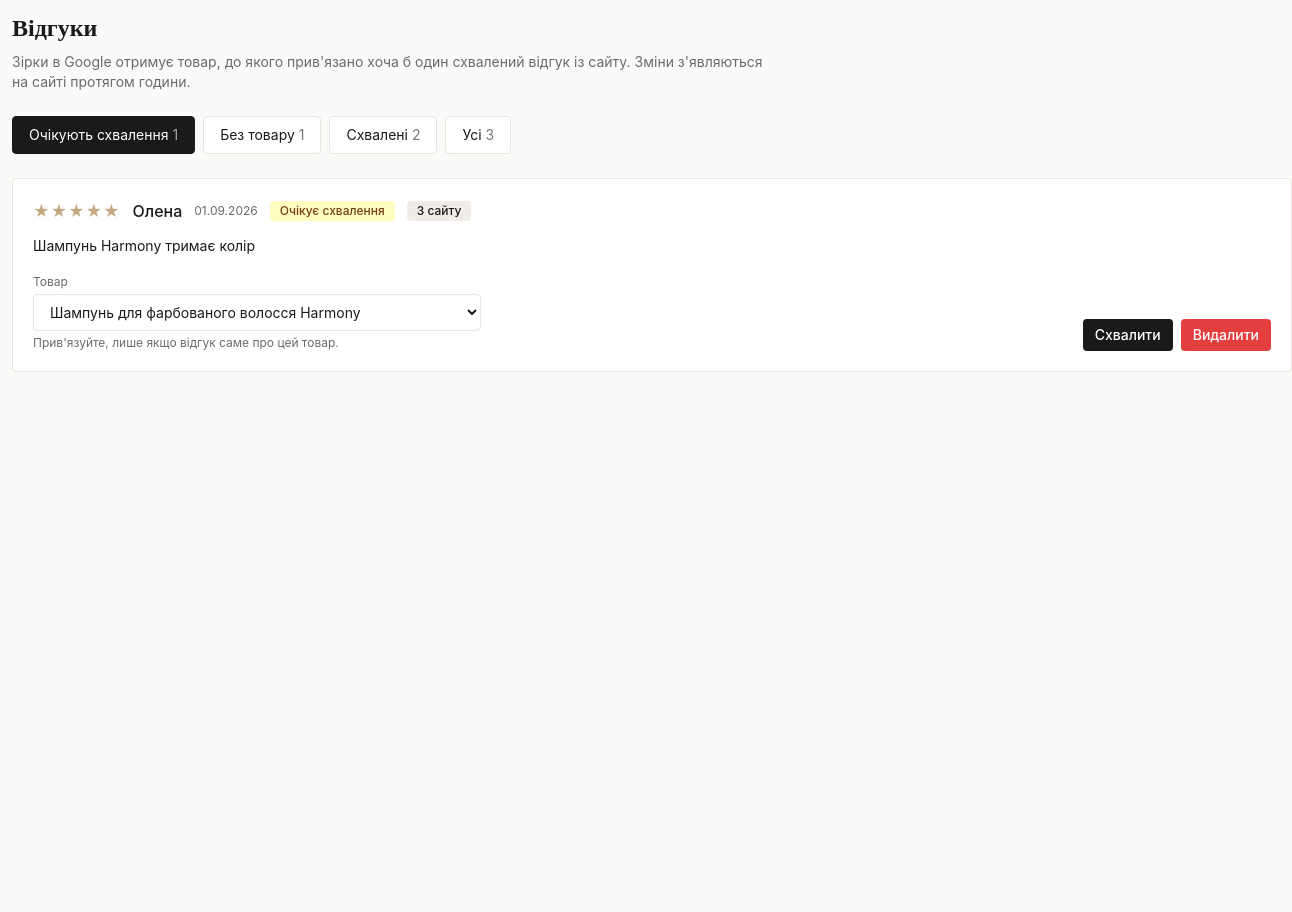
Test: адмінка: відгуки › відгук із Google Maps прив'язати до товару не можна
The image size is (1292, 912).
Click the tab "Усі 3": (478, 135) x1=445 y1=116 x2=511 y2=154
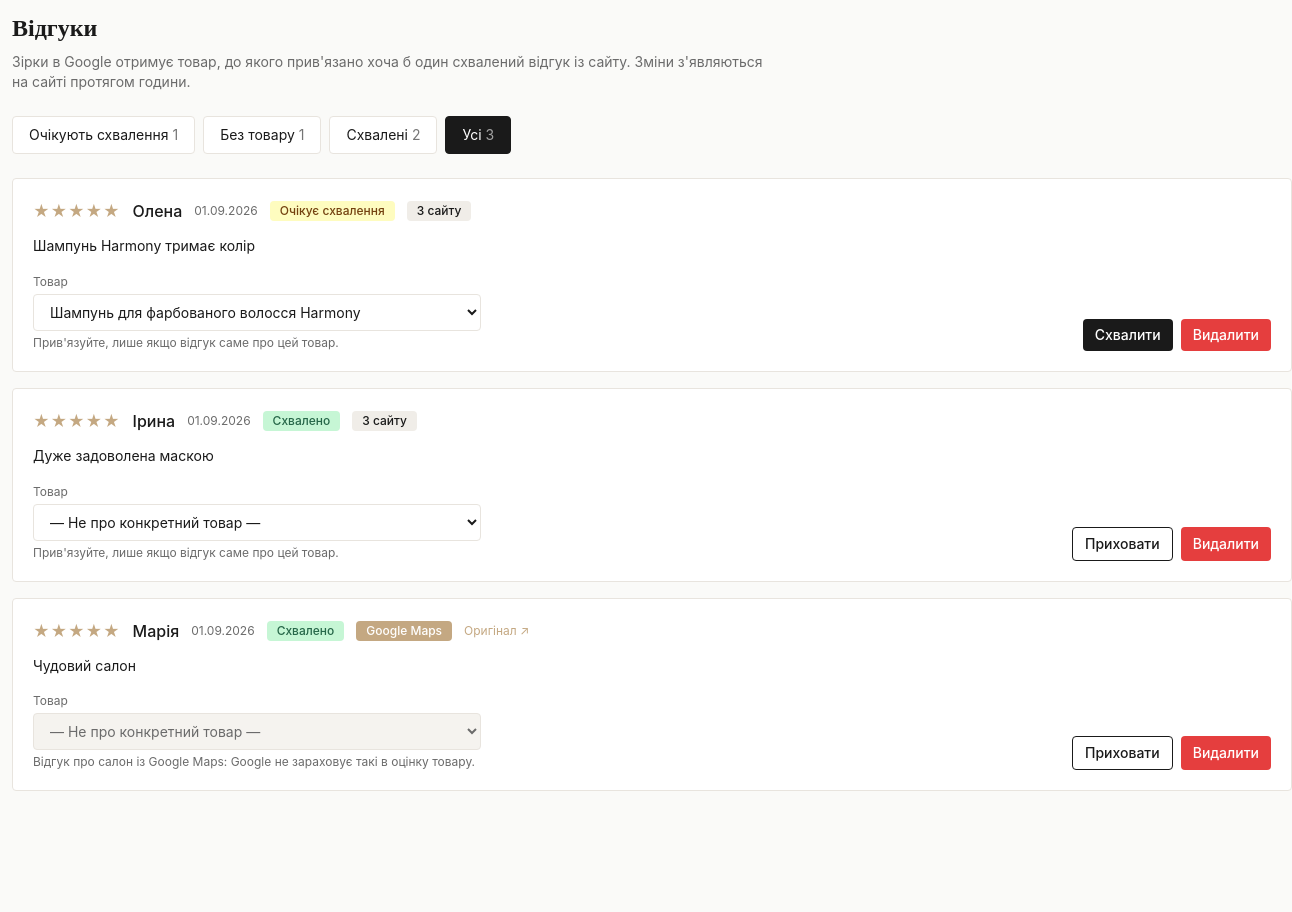
Check: the dropdown labelled "Товар" below "Марія" is disabled, box x1=33 y1=713 x2=481 y2=750
Check: the dropdown labelled "Товар" below "Ірина" is enabled, box x1=33 y1=504 x2=481 y2=540
